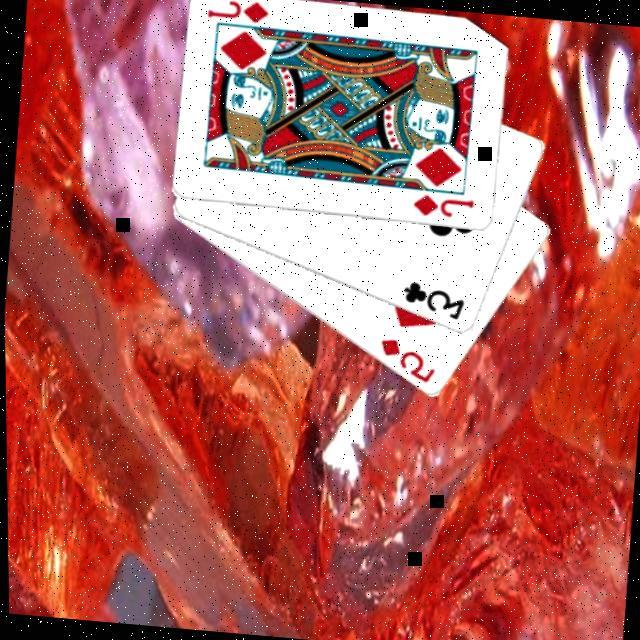3C: (396, 279, 468, 326)
5D: (371, 337, 438, 388)
JD: (406, 192, 474, 226), (202, 0, 270, 29)
